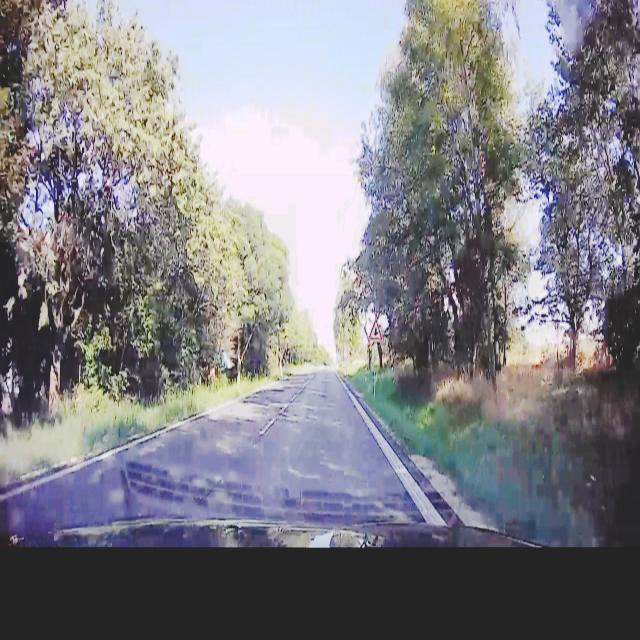Priority road: (368, 317, 382, 344)
